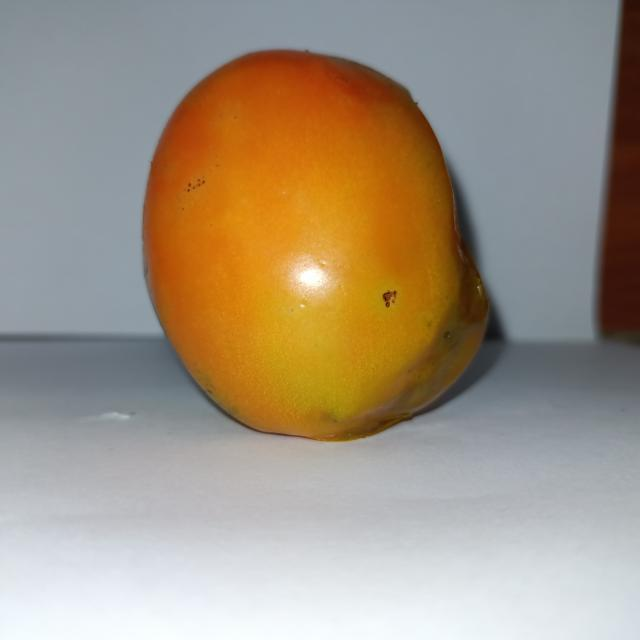Red: (140, 46, 491, 442)
